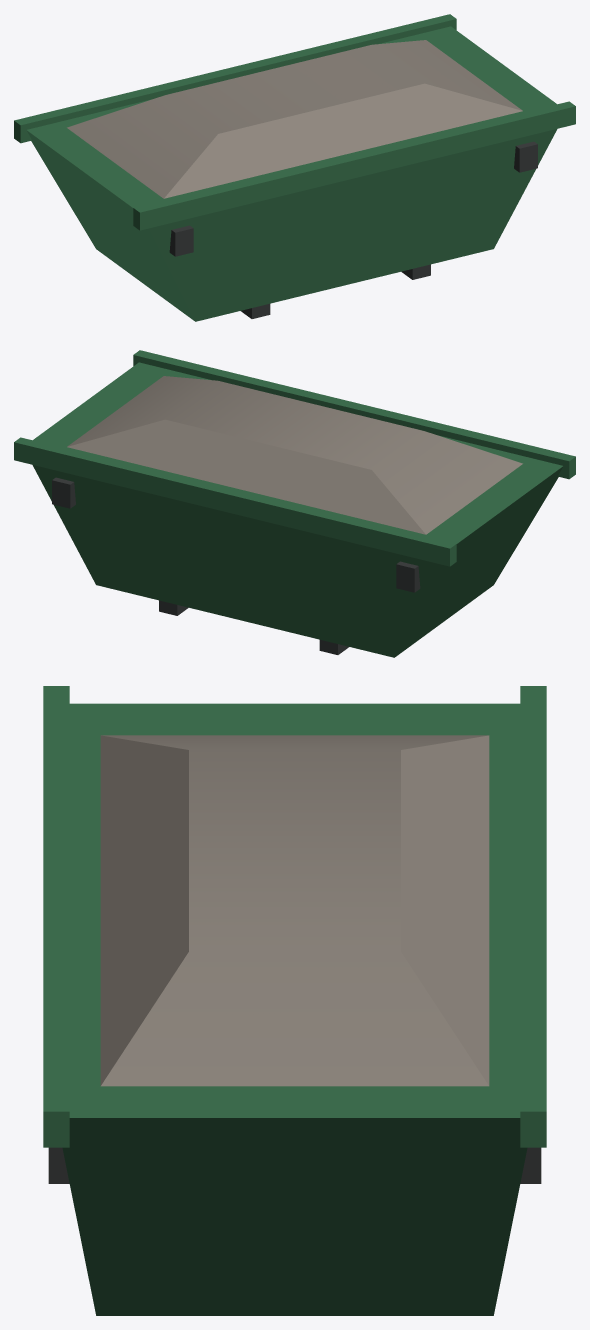
File: industrial.yard.skip_green.glb
The picture shows the model from 3 angles, top to bottom: view 1: azimuth 30°, elevation 25°; view 2: azimuth 150°, elevation 25°; view 3: azimuth 270°, elevation 25°; orthographic projection. The views are drawn at different scales.
Visible parts, largest first — view 1: main__paint_374, main__concrete_887, main__paint_333; view 2: main__paint_374, main__concrete_887, main__paint_333; view 3: main__paint_374, main__concrete_887, main__paint_333.
Part boxes in pixels (x1,y1,x2,y2): main__paint_374: (14,14,575,321); main__concrete_887: (67,40,522,198); main__paint_333: (169,141,537,318); main__paint_374: (14,350,575,657); main__concrete_887: (67,376,522,534); main__paint_333: (52,477,420,654); main__paint_374: (43,686,546,1315); main__concrete_887: (100,735,489,1086); main__paint_333: (48,1147,541,1183).
Size of the model in its own units: 3.8 by 1.45 by 1.9.
